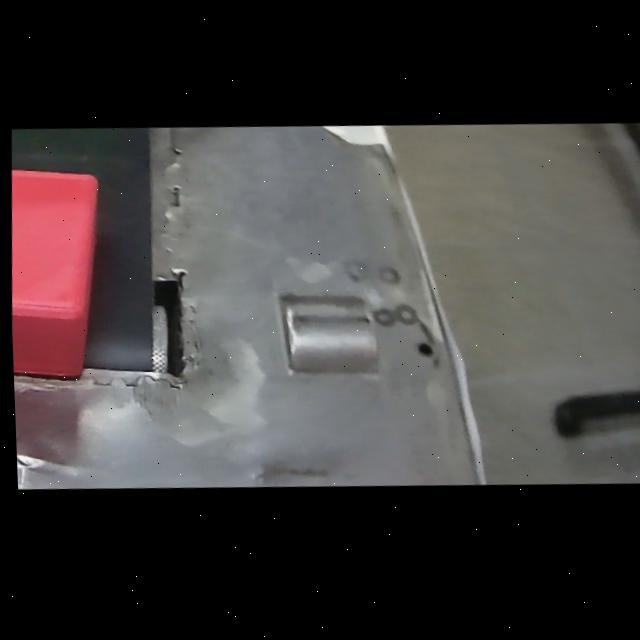redBox: (5, 154, 114, 387)
